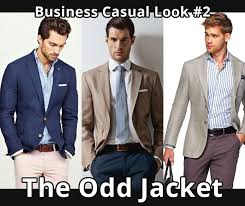F_M_suit jacket: (2, 46, 82, 161)
F_belt: (93, 138, 159, 156), (20, 140, 74, 158), (203, 123, 244, 140)
F_tie: (111, 59, 134, 143)
